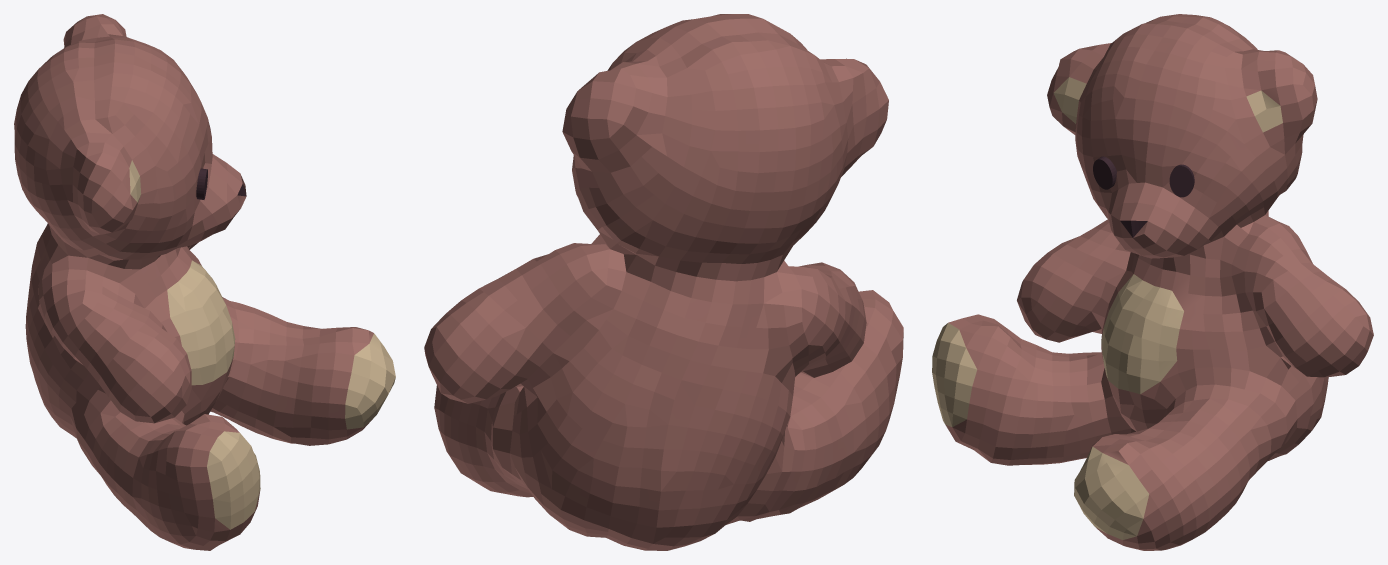
Rendered from orsetto.glb.
3 renders of one model, left to right at view 1: azimuth 30°, elevation 25°; view 2: azimuth 150°, elevation 25°; view 3: azimuth 270°, elevation 25°, orthographic. The views are drawn at different scales.
Parts seen in each view (by area): view 1: LOW_low-poly_teddy_bear; view 2: LOW_low-poly_teddy_bear; view 3: LOW_low-poly_teddy_bear, Cylinder.001, Cylinder.
Part boxes in pixels (x1=…): LOW_low-poly_teddy_bear: x1=14, y1=14, x2=395, y2=550; LOW_low-poly_teddy_bear: x1=424, y1=14, x2=903, y2=550; LOW_low-poly_teddy_bear: x1=932, y1=14, x2=1373, y2=550; Cylinder.001: x1=1169, y1=164, x2=1194, y2=197; Cylinder: x1=1093, y1=156, x2=1116, y2=189.
Bounding box in the file's own units: 1.13 × 1.41 × 1.3.
